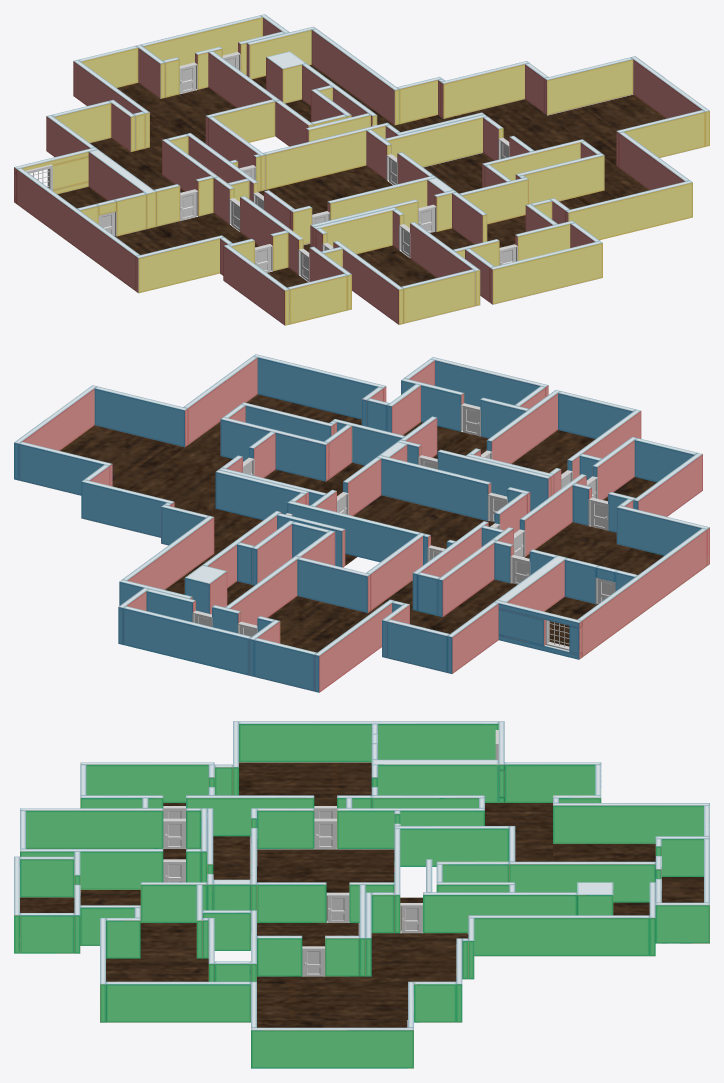
Rendered from Farm_OldHouse.fbx.
3 renders of one model, top to bottom at view 1: azimuth 30°, elevation 25°; view 2: azimuth 150°, elevation 25°; view 3: azimuth 270°, elevation 25°, orthographic. The views are drawn at different scales.
Visible parts, largest first — view 1: Floor, cube_1, cube_91, cube_54, cube_41, cube_70, cube_74, cube_8, cube_72, cube_84, cube_79, cube_51 (+55 smaller); view 2: Floor, cube_1, cube_33, cube_91, cube_42, cube_77, cube_78, cube_72, cube_41, cube_70, cube_20, cube_54 (+53 smaller); view 3: Floor, cube_1, cube_70, cube_76, cube_92, cube_20, cube_49, cube, cube_36, cube_64, cube_25, cube_38 (+39 smaller).
Part boxes in pixels (<box>): Floor: <box>58,65,665,287</box>; cube_1: <box>16,168,139,290</box>; cube_91: <box>565,180,692,240</box>; cube_54: <box>490,241,602,304</box>; cube_41: <box>263,122,389,189</box>; cube_70: <box>311,28,399,125</box>; cube_74: <box>544,57,633,115</box>; cube_8: <box>135,235,224,293</box>; cube_72: <box>440,61,529,118</box>; cube_84: <box>385,114,487,167</box>; cube_79: <box>515,153,604,203</box>; cube_51: <box>401,269,475,323</box>; Floor: <box>60,394,663,652</box>; cube_1: <box>577,528,706,657</box>; cube_33: <box>123,606,251,675</box>; cube_91: <box>253,354,386,419</box>; cube_42: <box>376,455,491,521</box>; cube_77: <box>94,386,187,447</box>; cube_78: <box>220,417,328,481</box>; cube_72: <box>81,479,174,537</box>; cube_41: <box>287,500,420,562</box>; cube_70: <box>122,515,214,589</box>; cube_20: <box>314,599,394,692</box>; cube_54: <box>430,357,548,406</box>; Floor: <box>20,762,703,1027</box>; cube_1: <box>239,721,498,762</box>; cube_70: <box>468,915,649,956</box>; cube_76: <box>251,1027,413,1068</box>; cube_92: <box>106,981,250,1022</box>; cube_20: <box>553,803,709,843</box>; cube_49: <box>20,808,163,848</box>; cube: <box>371,759,498,802</box>; cube_36: <box>509,861,655,902</box>; cube_64: <box>423,892,576,933</box>; cube_25: <box>80,762,214,802</box>; cube_38: <box>394,826,509,866</box>.
Bounding box in the file's own units: 756 × 44.69 × 720.
